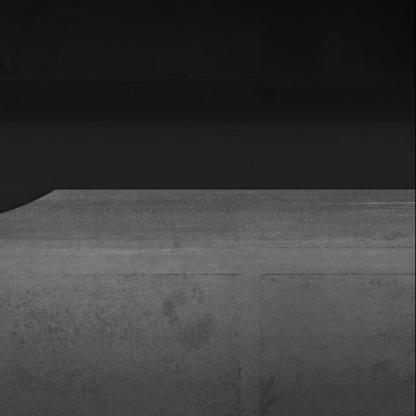crescent_gap: (0, 183, 66, 227)
